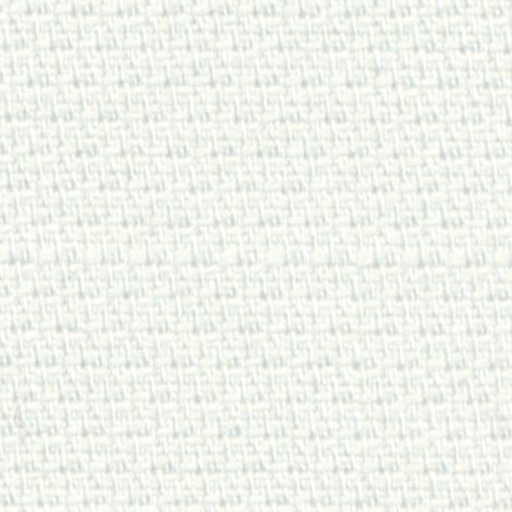TuoSha: (20, 202, 485, 302)
